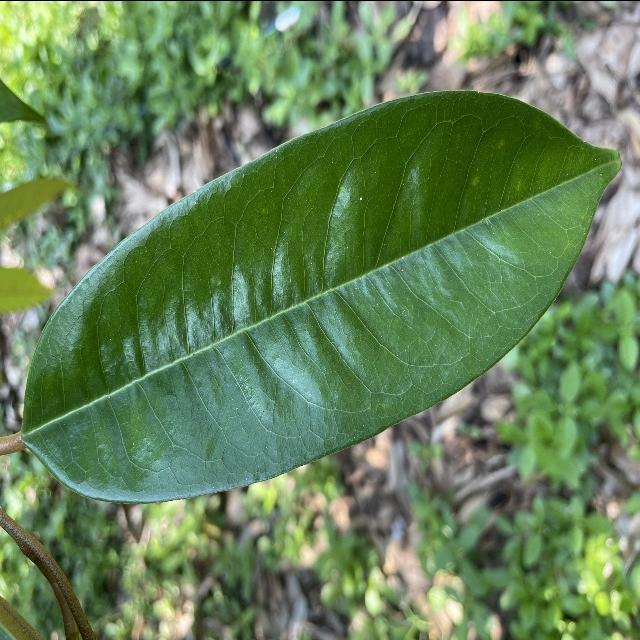No Disease: (13, 75, 623, 505)
